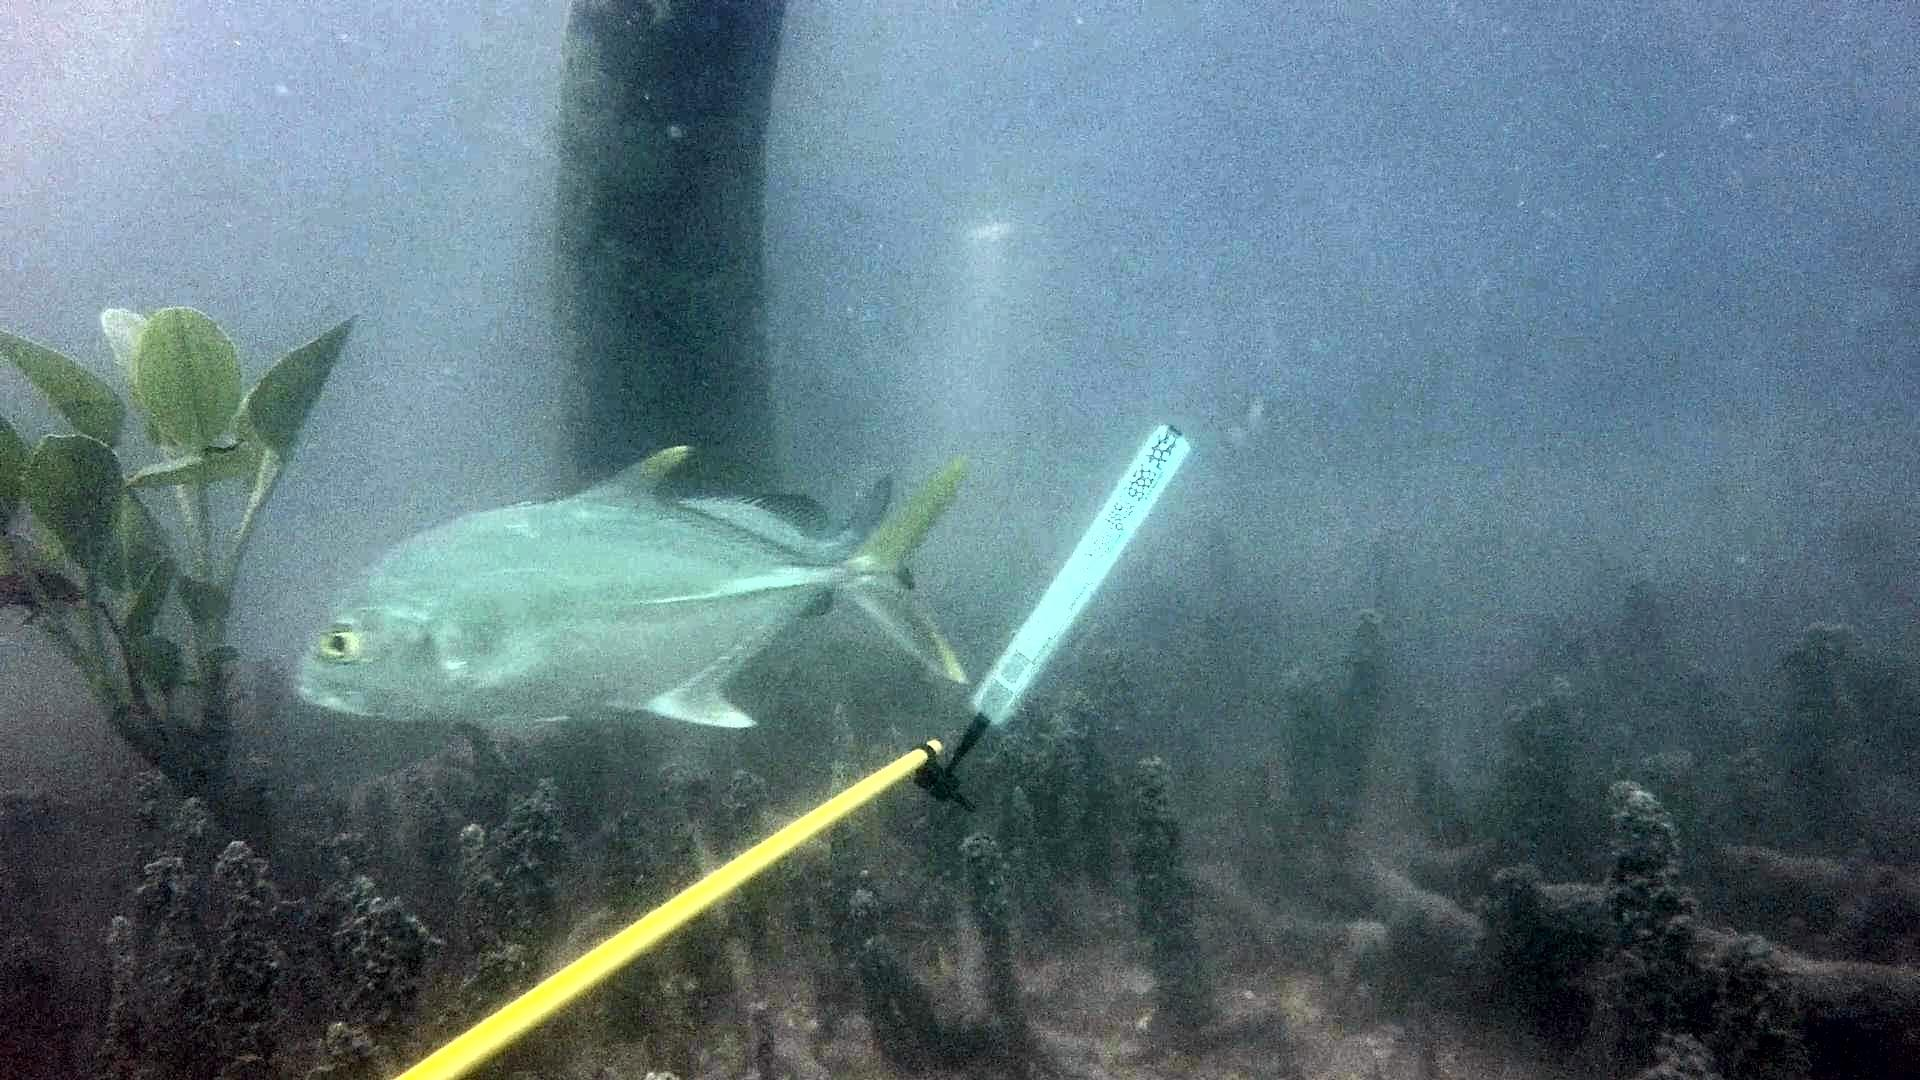caranx: (291, 431, 976, 744)
